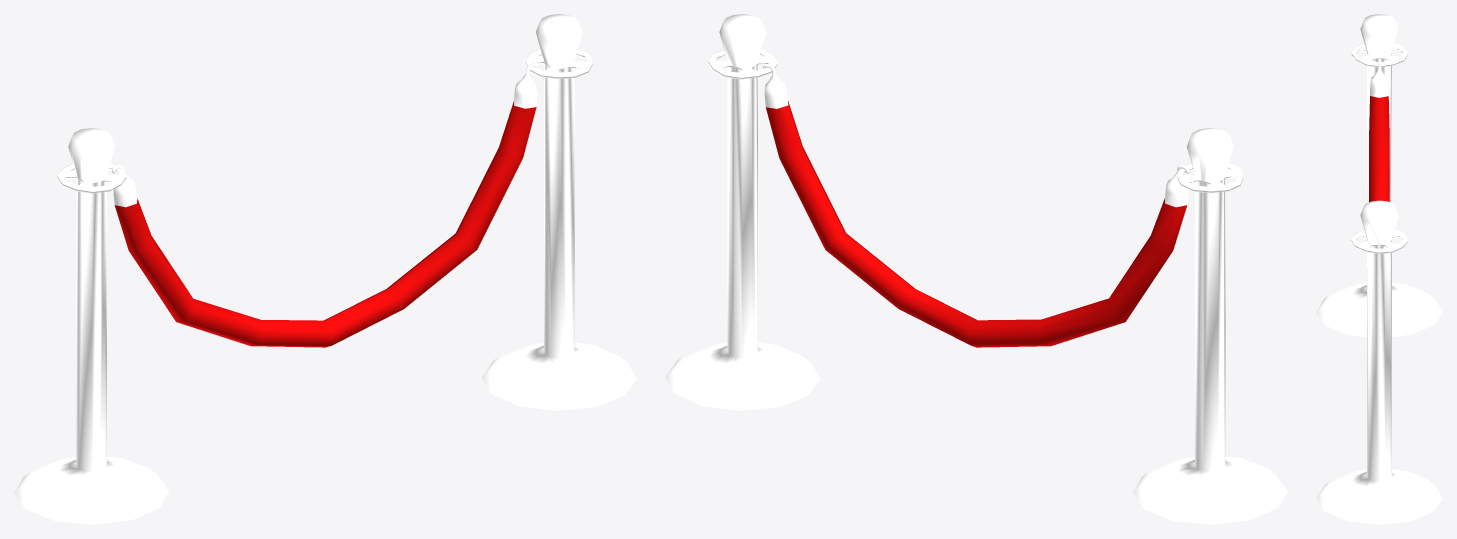
The model's file is VipRopeSilverShort.glb.
3 renders of one model, left to right at view 1: azimuth 30°, elevation 25°; view 2: azimuth 150°, elevation 25°; view 3: azimuth 270°, elevation 25°, orthographic. The views are drawn at different scales.
Visible parts, largest first — view 1: VipRopeSilverShort; view 2: VipRopeSilverShort; view 3: VipRopeSilverShort.
Part boxes in pixels (x1,y1,x2,y2): VipRopeSilverShort: (14,14,636,524); VipRopeSilverShort: (665,14,1287,524); VipRopeSilverShort: (1316,14,1442,524).
Bounding box in the file's own units: 2.05 × 1.17 × 0.4581.
2 materials, 2 textured.
